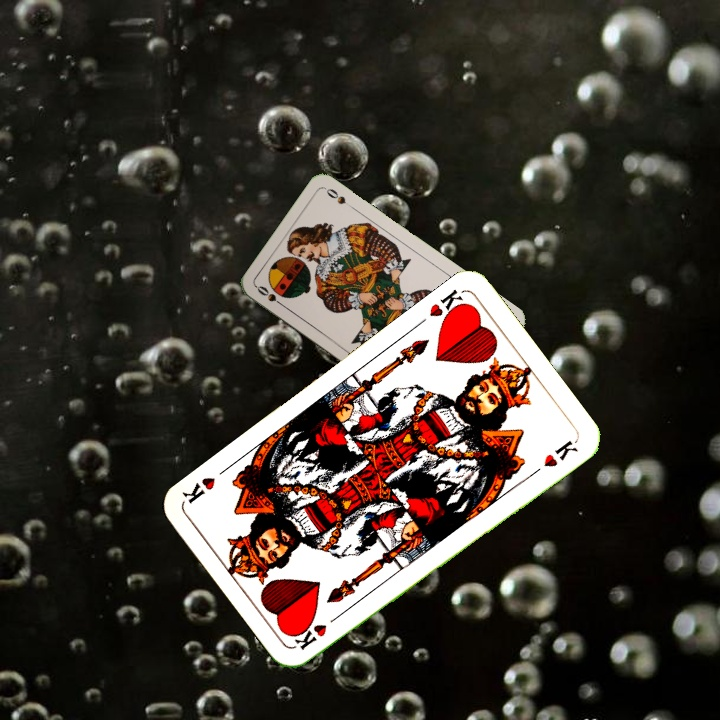HK: (290, 609, 344, 653), (425, 285, 471, 326)
SO: (253, 281, 289, 310)
